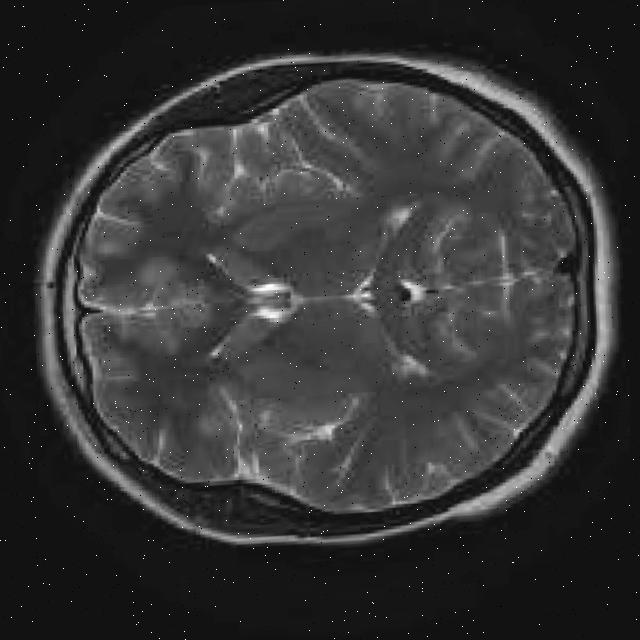NoTumor: (11, 31, 639, 562)
